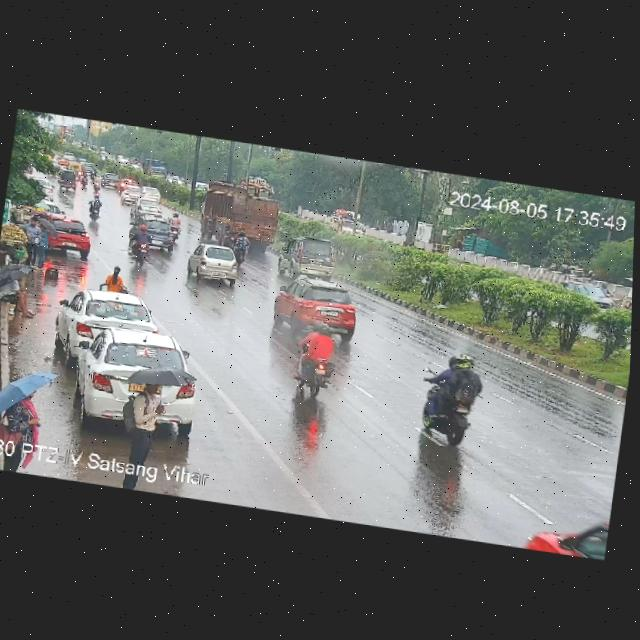car: (50, 318, 205, 443), (56, 284, 157, 355), (270, 274, 365, 340), (542, 270, 617, 311), (278, 235, 340, 281), (187, 241, 247, 284), (54, 215, 95, 255), (327, 204, 364, 238), (120, 184, 165, 207), (129, 198, 164, 218), (55, 168, 79, 194), (103, 171, 123, 189), (165, 173, 185, 186), (81, 161, 95, 174)
motorcycle: (412, 350, 490, 453), (294, 321, 341, 400), (124, 222, 160, 264), (135, 216, 178, 250), (228, 230, 251, 263), (165, 210, 184, 242), (86, 193, 106, 223), (91, 174, 103, 192)
person: (118, 374, 175, 461), (0, 376, 56, 453), (0, 269, 45, 319), (21, 216, 53, 269), (97, 265, 126, 294)
truck: (201, 185, 275, 243), (138, 157, 171, 180)
